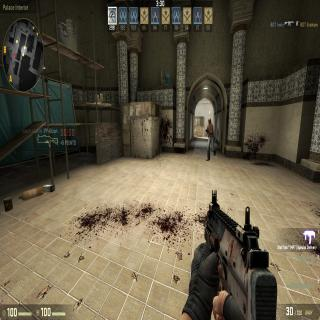T-Body: (206, 117, 214, 161)
T-Head: (208, 117, 211, 124)
